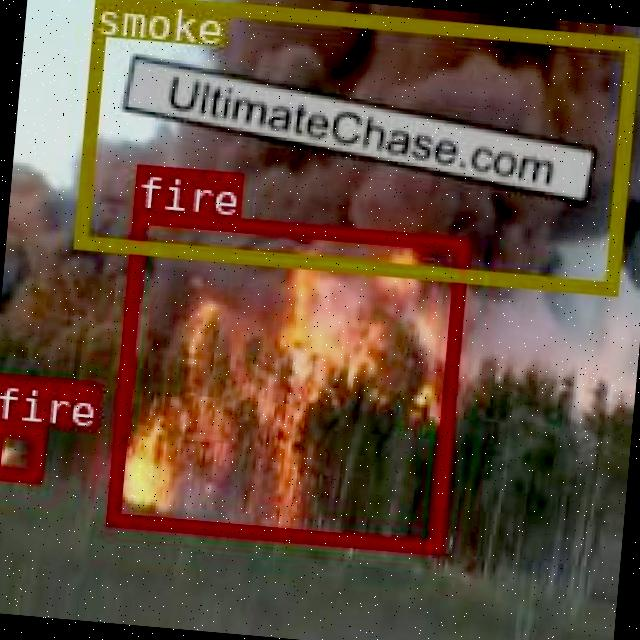fire: (105, 208, 467, 550), (0, 418, 44, 479)
smoke: (73, 0, 637, 291)
